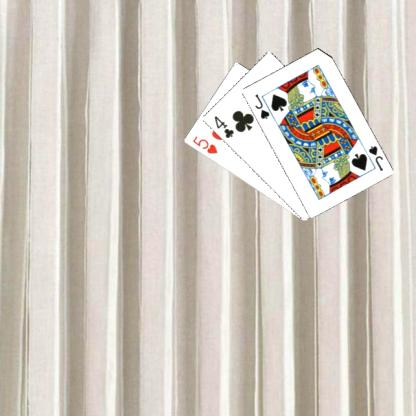4C: (211, 113, 235, 140)
5H: (190, 133, 218, 155)
JS: (251, 90, 271, 120), (366, 142, 384, 172)
